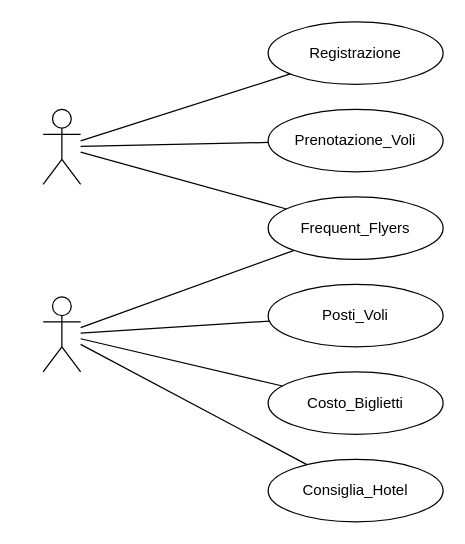
Image size: 465x544. Some labels were removed from this diagram. The box of each missing label's shape, as (x1, y1, x2, y2) in pixels:
Sistema prenotazioni: (42, 296, 81, 372)
Utente: (42, 108, 81, 184)
